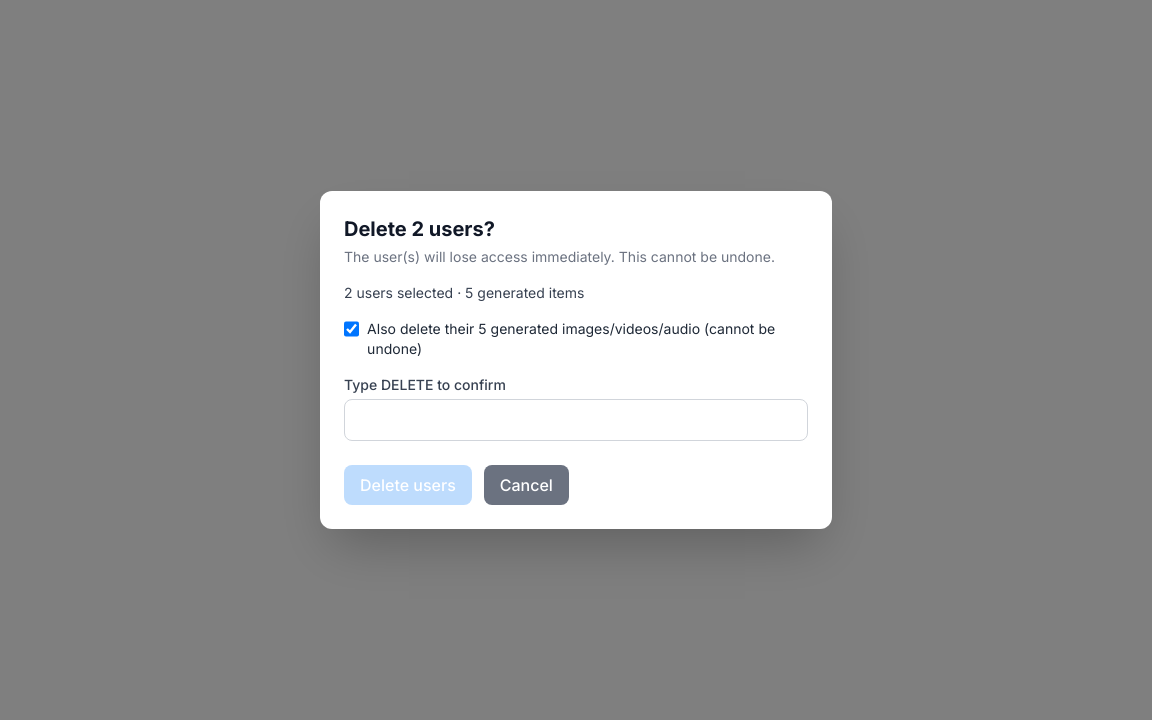
Test: DeleteUsersModal (bulk) › shows a summary with failures and reasons
Type "DELETE" into the field named "Type DELETE" at (576, 420), box [344, 399, 808, 441]
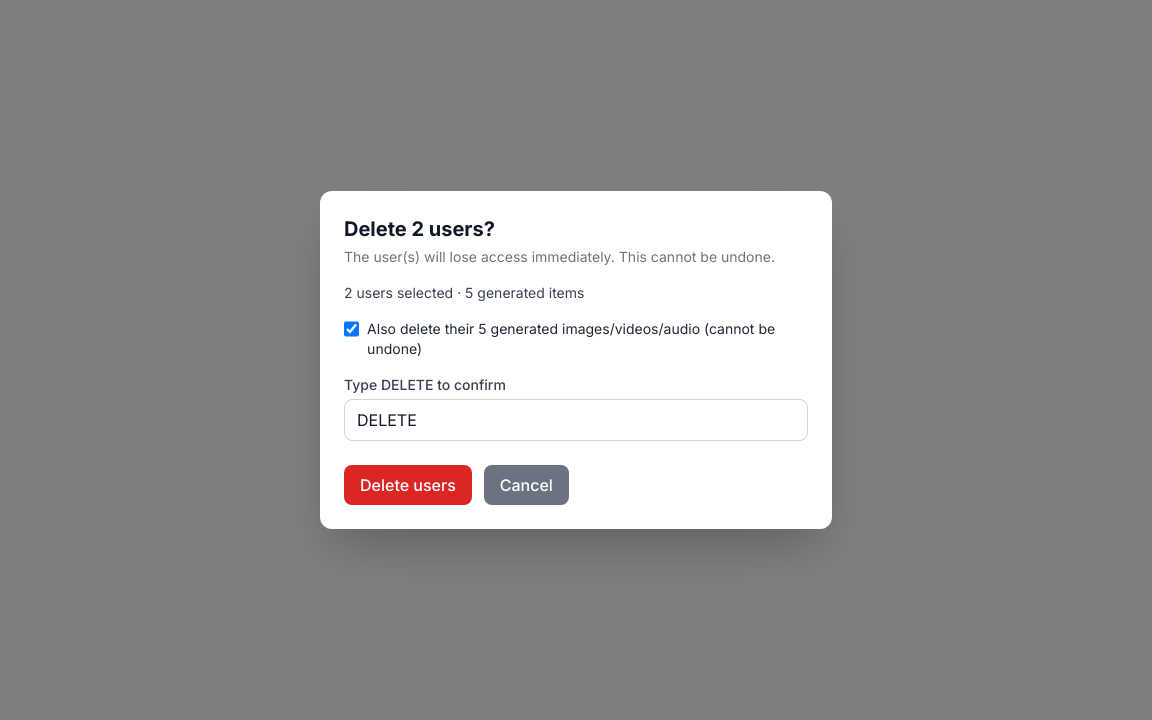
Click the button "Delete users" at (408, 485), box [344, 465, 472, 505]
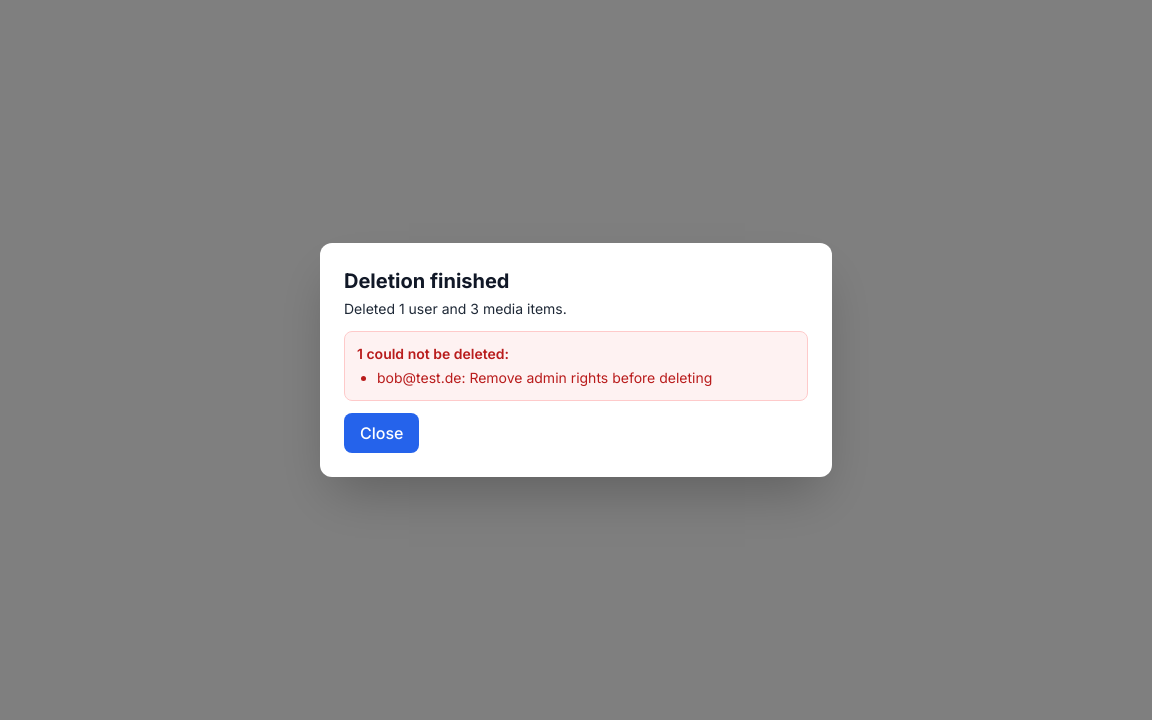
Expected: the text "Deleted 1 user and 3 media items." is shown, [344, 300, 567, 317]
Expected: the list item "bob@test.de: Remove admin rights before deleting" is shown, [377, 369, 712, 386]
